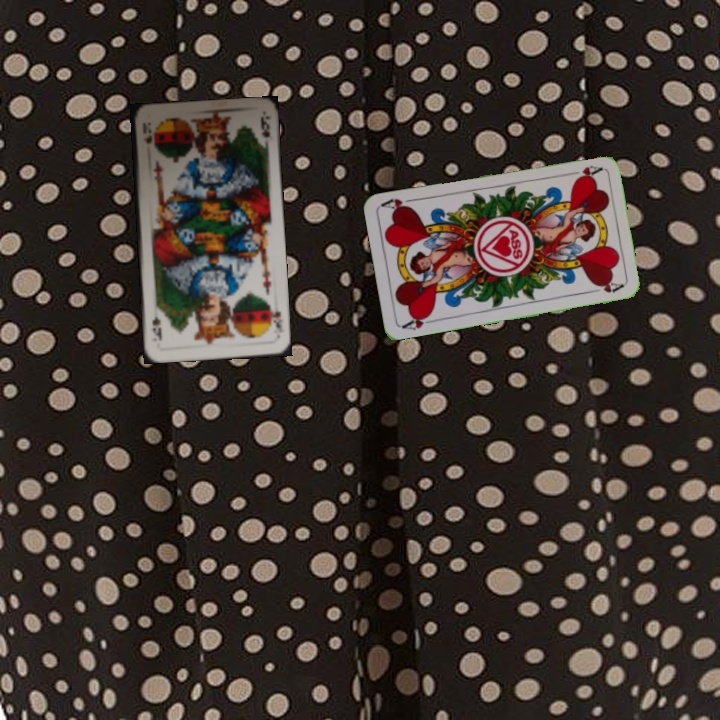HA: (398, 310, 439, 333), (563, 161, 604, 182)
SK: (265, 301, 284, 332), (138, 118, 154, 147)
